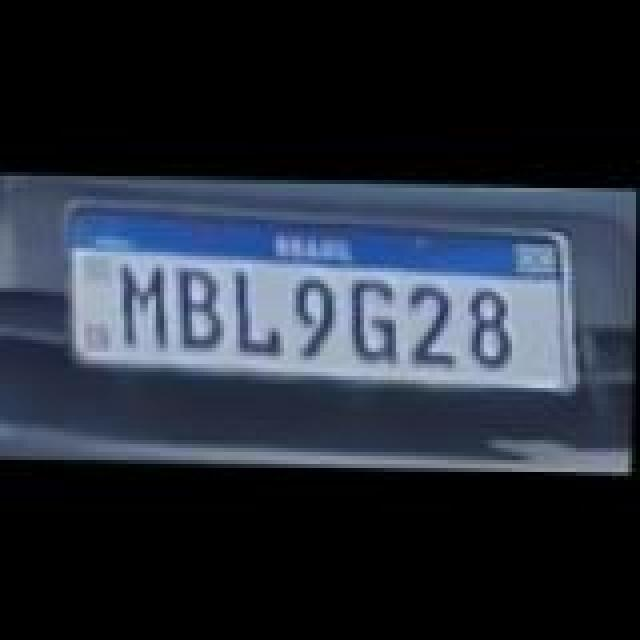2: (404, 282, 460, 366)
8: (466, 286, 518, 366)
9: (292, 274, 348, 354)
B: (170, 266, 230, 350)
G: (346, 274, 406, 358)
L: (230, 268, 290, 352)
M: (118, 258, 178, 346)
